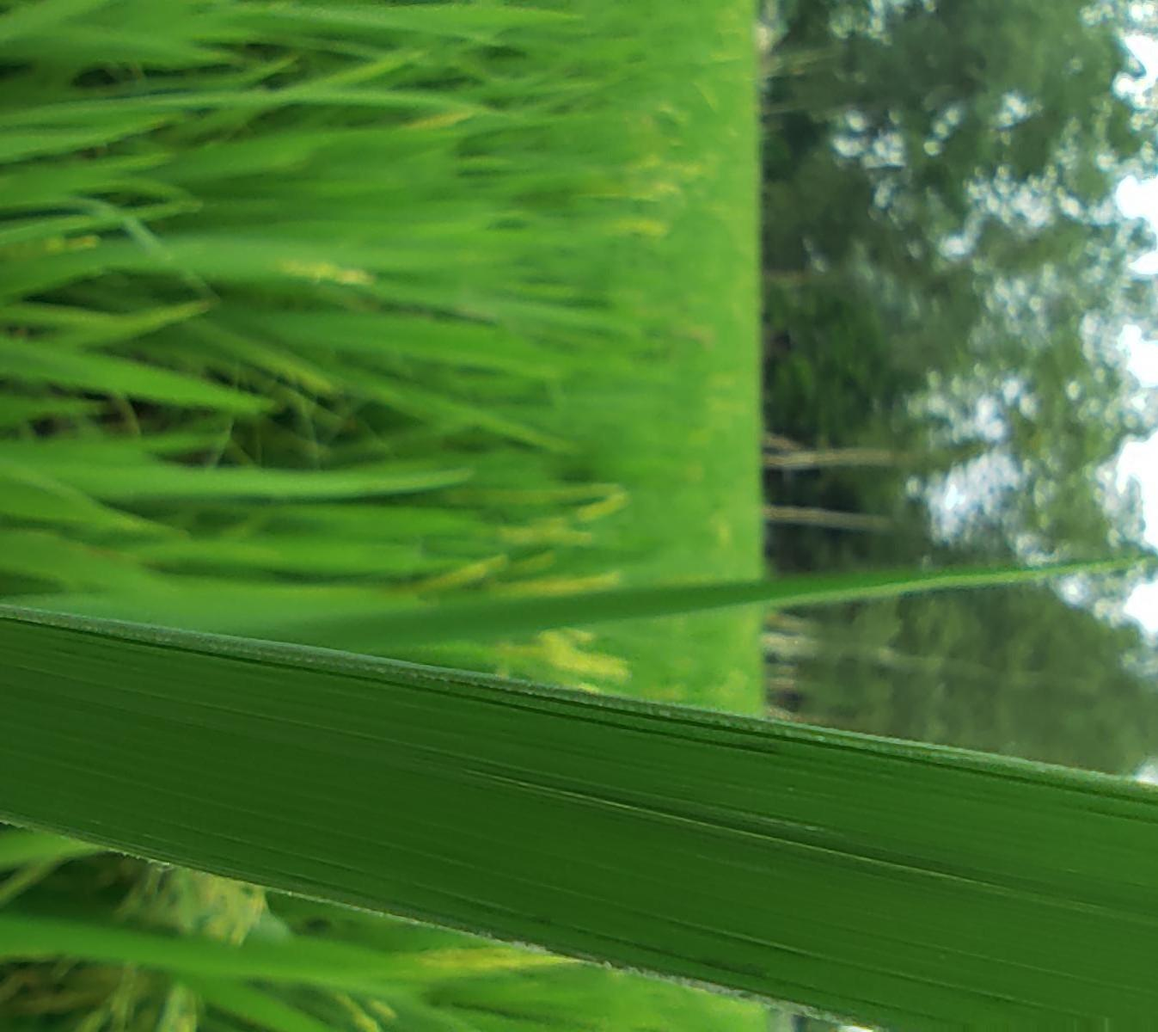Healthy: (0, 607, 1157, 1031)
